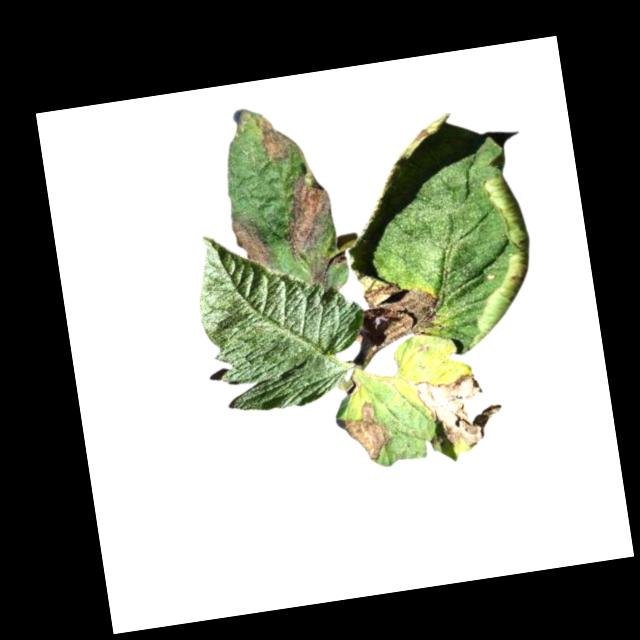Late_blight: (411, 364, 506, 450), (348, 271, 449, 351), (276, 163, 341, 261), (332, 398, 395, 466), (230, 208, 274, 272), (256, 107, 296, 163), (307, 249, 351, 287)
healthy: (188, 212, 377, 420)
